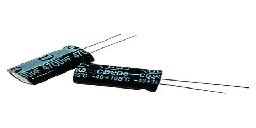Electrolytic-Capacitor: (69, 60, 250, 103), (6, 42, 94, 89)
